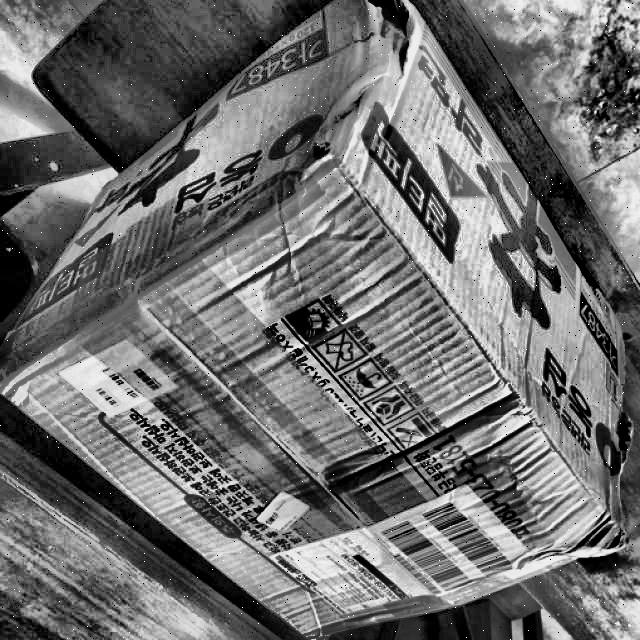box: (1, 1, 635, 640)
hole: (364, 0, 416, 77), (612, 404, 631, 470)
